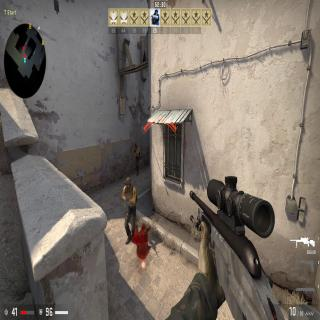T-Body: (122, 177, 138, 243), (134, 143, 140, 174)
T-Head: (125, 177, 131, 190), (134, 143, 138, 148)
